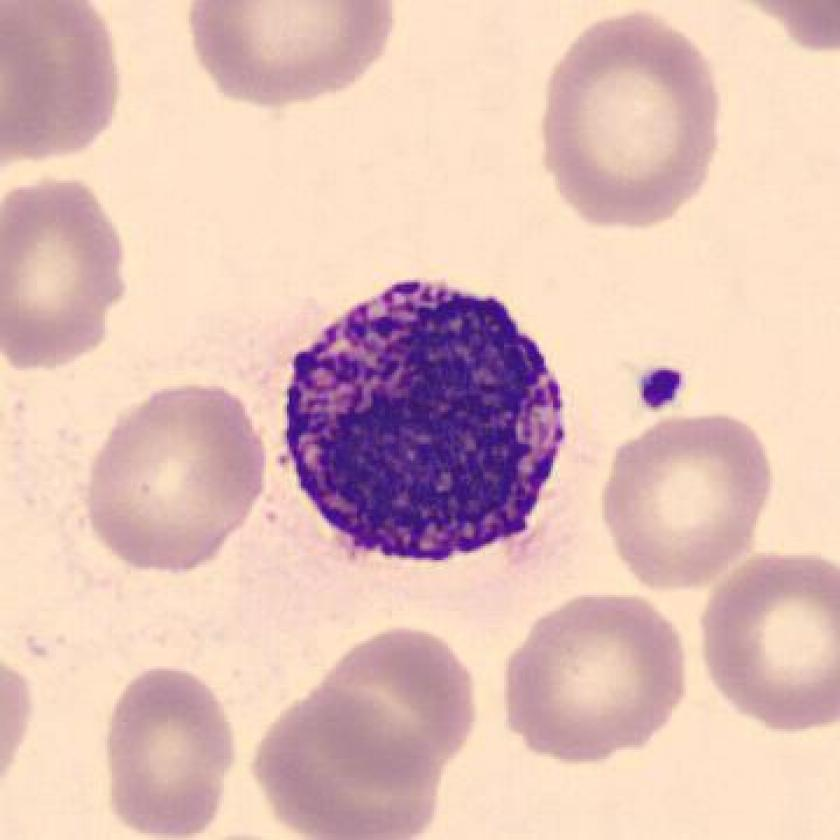basophil: (281, 279, 570, 559)
